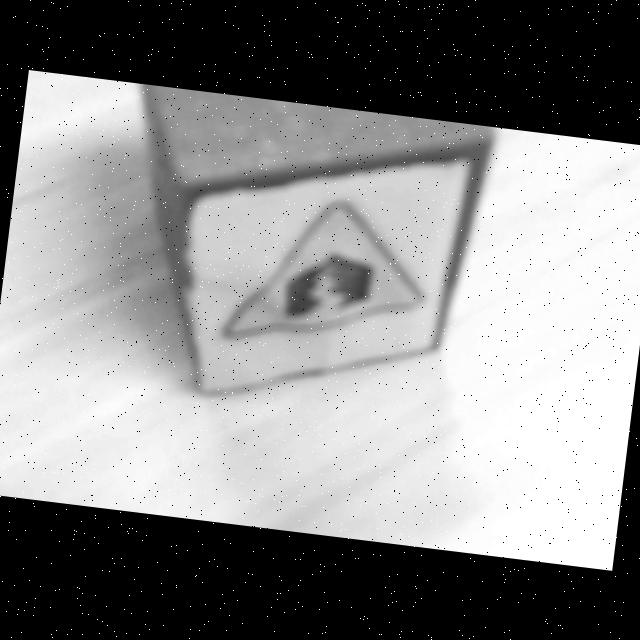Earthquake: (223, 201, 424, 338)
